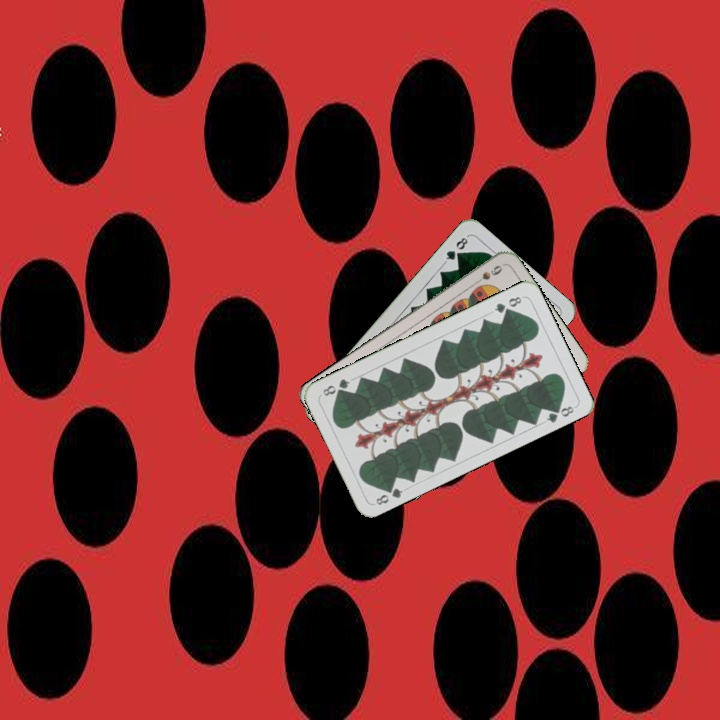G8: (440, 232, 471, 266), (372, 481, 405, 508), (490, 292, 524, 316)
S9: (469, 261, 505, 288)
